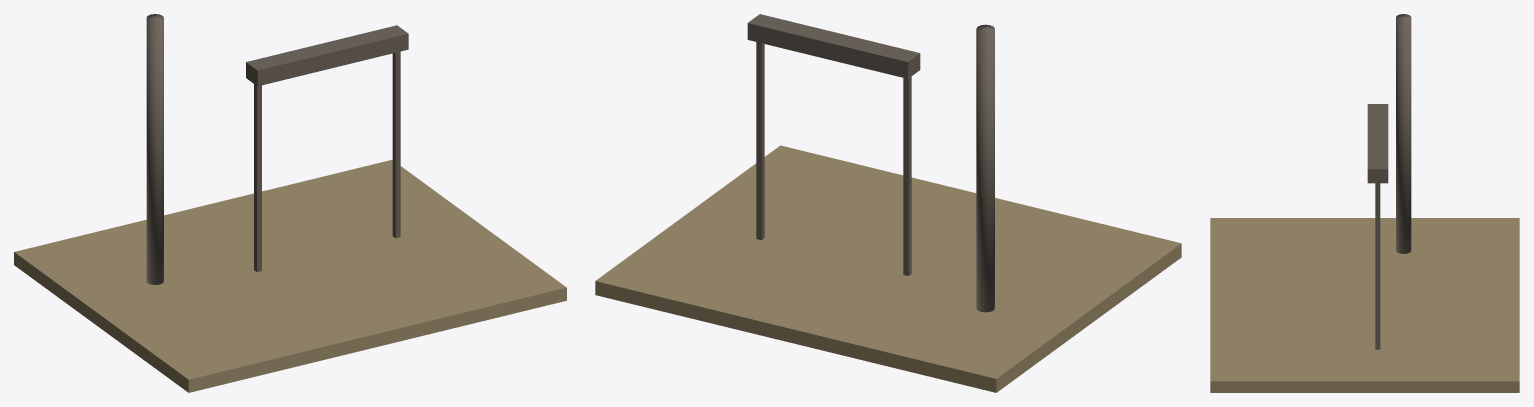
File: fringe.glb
3 views of the same model, side by side, from view 1: azimuth 30°, elevation 25°; view 2: azimuth 150°, elevation 25°; view 3: azimuth 270°, elevation 25° (orthographic). The views are drawn at different scales.
Visible parts, largest first — view 1: Ground, Pole, Bar, PostB, PostA; view 2: Ground, Pole, Bar, PostA, PostB; view 3: Ground, Pole, Bar, PostB.
Boxes of the visible parts, x1,y1,x2,y2 form: Ground: (14, 160, 566, 392); Pole: (146, 14, 163, 284); Bar: (246, 25, 408, 86); PostB: (392, 51, 400, 238); PostA: (254, 84, 261, 271); Ground: (595, 145, 1181, 392); Pole: (976, 24, 994, 312); Bar: (747, 14, 920, 78); PostA: (903, 76, 911, 275); PostB: (756, 42, 764, 240); Ground: (1210, 218, 1519, 392); Pole: (1396, 14, 1411, 253); Bar: (1367, 104, 1388, 183); PostB: (1375, 183, 1380, 349).
Bounding box in the file's own units: 3 × 2.1 × 2.4.
